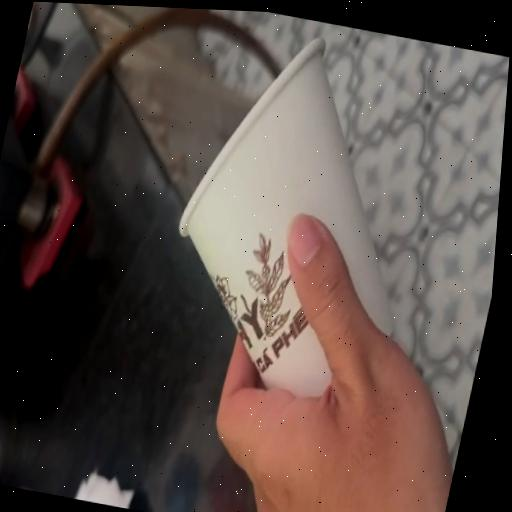Ly_giay: (179, 39, 391, 396)
